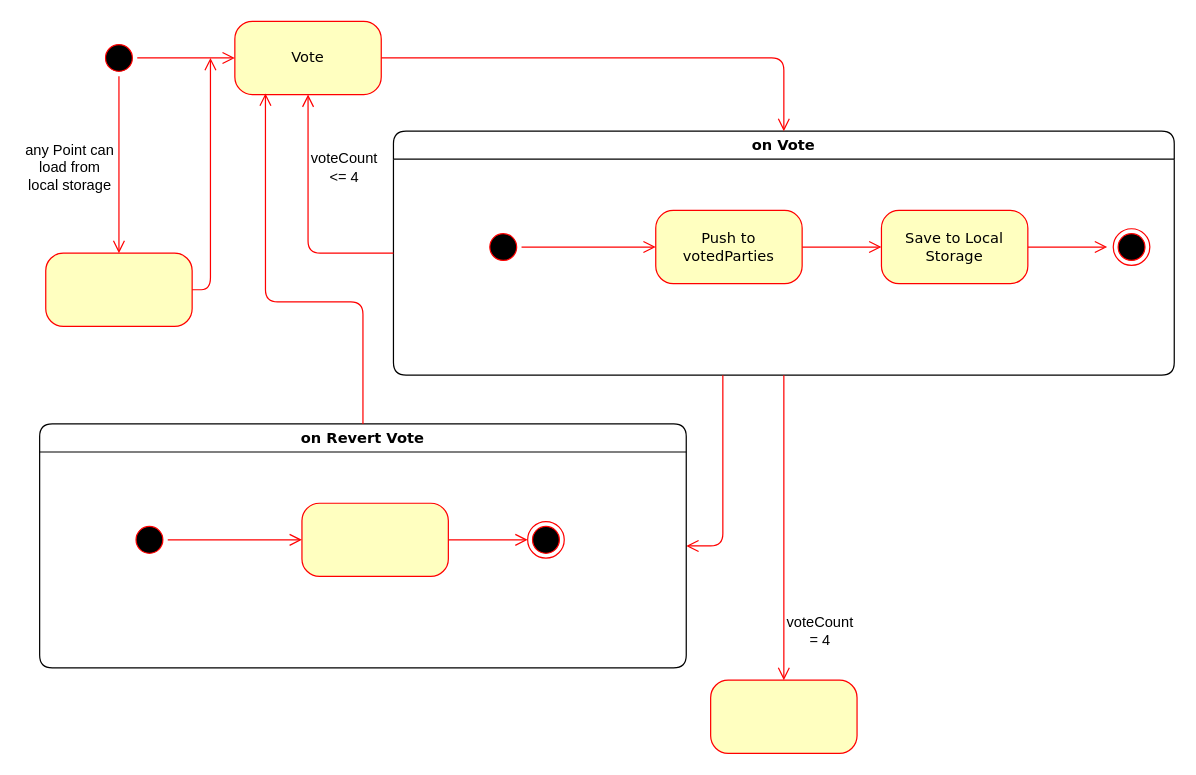
This 1196x775 diagram has some shape labels left out. The centre of each missing label's shape, as x and y in pixels:
load: the point at 118,289
Pop votedParties: the point at 374,539
Submit: the point at 783,716
